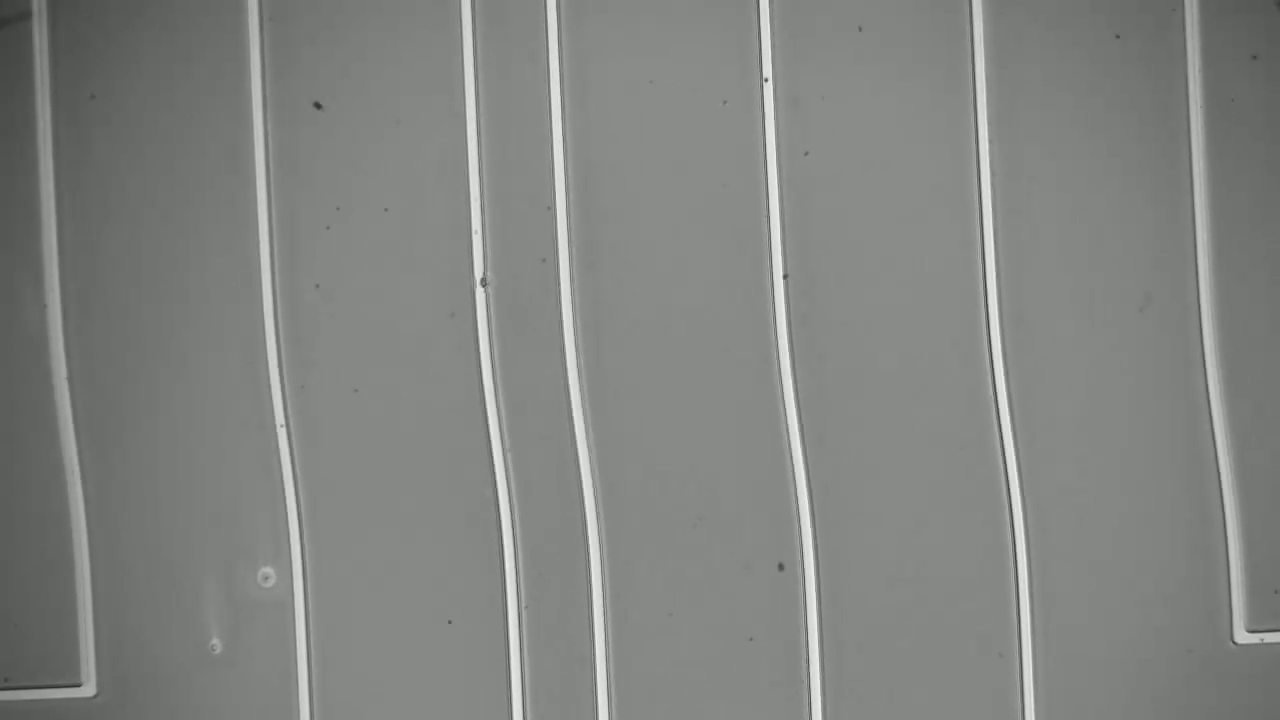stains_enbedded: (466, 269, 496, 294)
